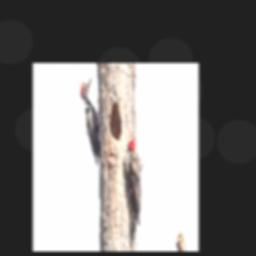Woodpecker: (79, 76, 100, 166), (125, 139, 141, 250)
